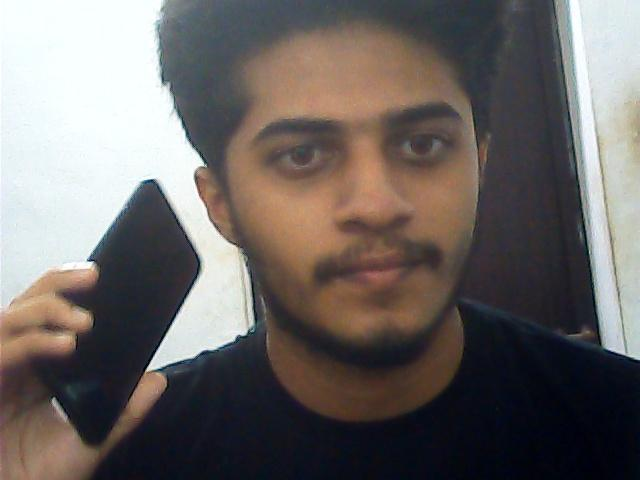PhoneUse: (25, 171, 191, 437)
SafeDriving: (379, 112, 466, 174), (258, 124, 348, 181)
